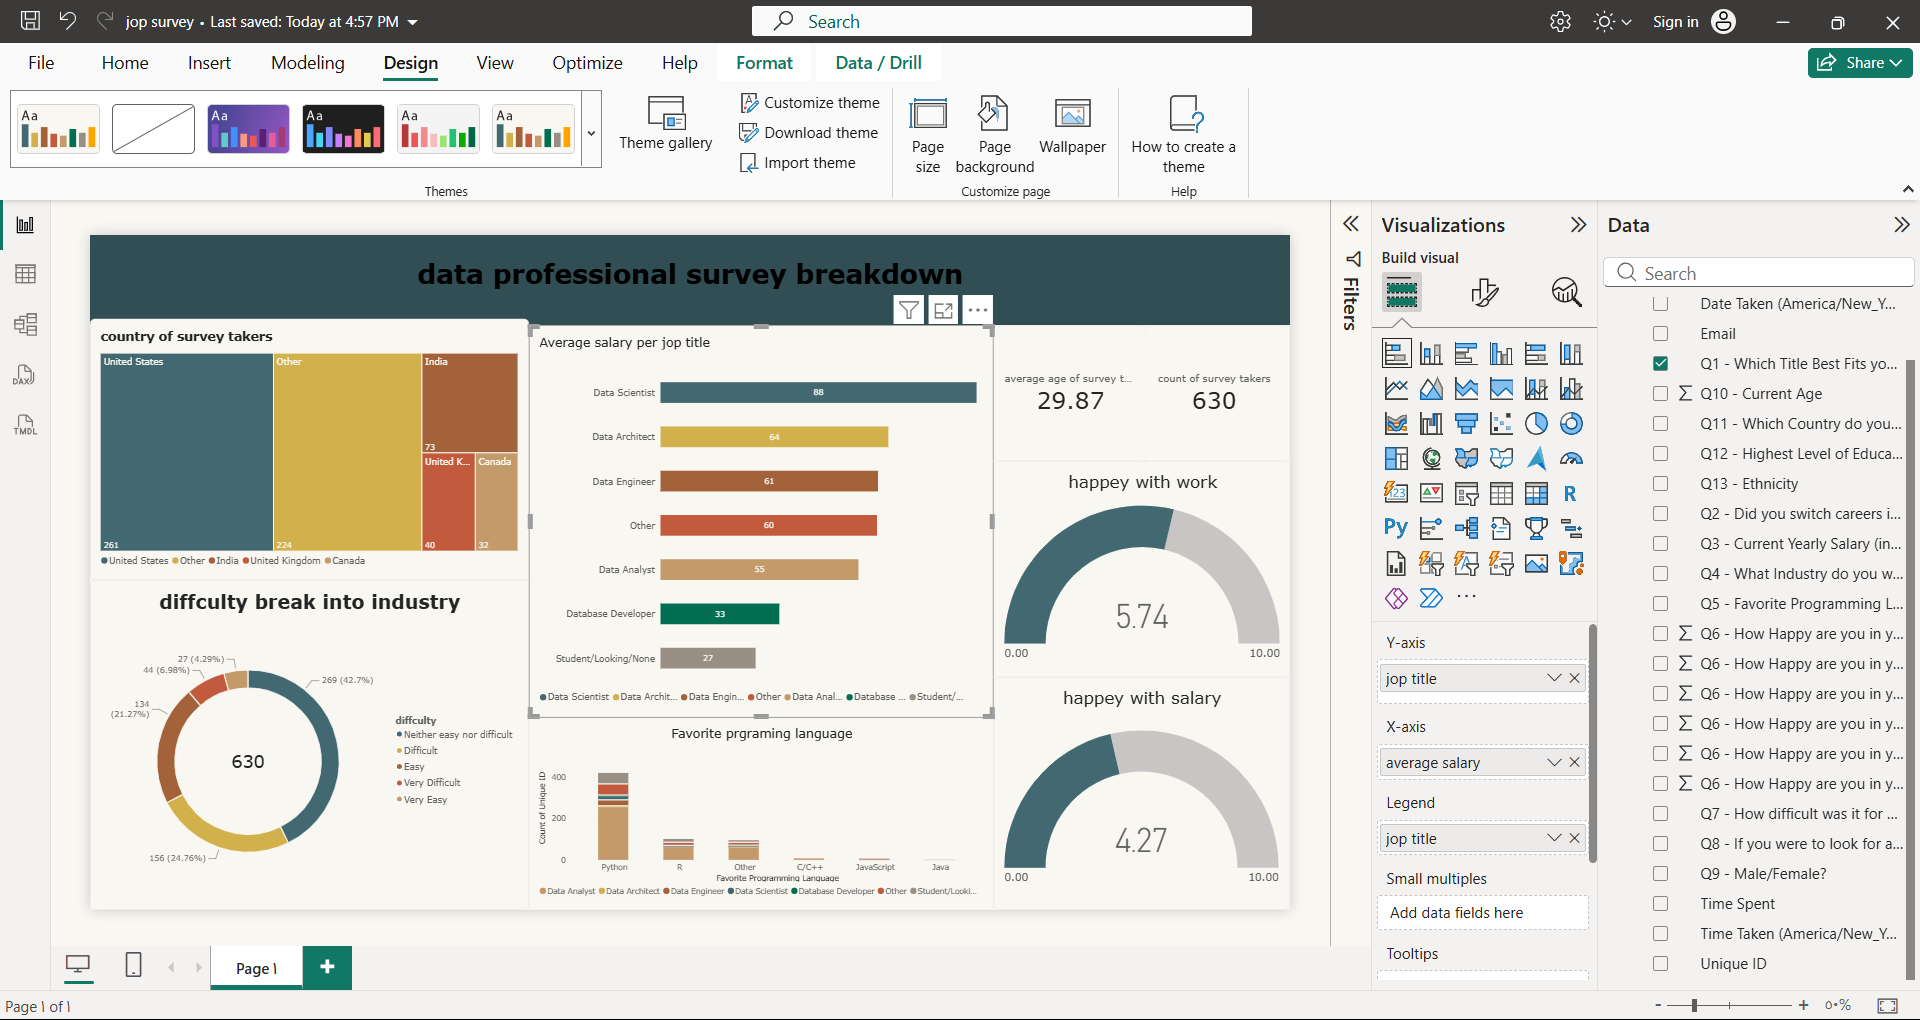

Layout of this report page (visuals, bound fields, positions):
{"tool":"powerbi","page":{"name":"Page ١","canvas":[1920,1080],"ordinal":0},"visuals":[{"type":"textbox","box":[0,0,1920.4,144.1],"z":0},{"type":"cardVisual","fields":{"Data":["Count(Data Professional Survey.Unique ID)"]},"box":[1676.3,144.5,244,217.8],"z":1000},{"type":"cardVisual","fields":{"Data":["Avg(Data Professional Survey.Q10 - Current Age)"]},"box":[1445.4,144.5,244,217.8],"z":1001},{"type":"barChart","title":"Average salary per jop title","fields":{"Category":["Data Professional Survey.Q1 - Which Title Best Fits your Current Role?.1"],"Series":["Data Professional Survey.Q1 - Which Title Best Fits your Current Role?.1"],"Y":["Avg(Data Professional Survey.average salary)"]},"box":[702.1,144.5,743.4,627],"z":1002},{"type":"columnChart","title":"Favorite prgraming language","fields":{"Category":["Data Professional Survey.Q5 - Favorite Programming Language.1"],"Series":["Data Professional Survey.Q1 - Which Title Best Fits your Current Role?.1"],"Y":["Count(Data Professional Survey.Unique ID)"]},"box":[702.1,769.7,744,310],"z":1003},{"type":"treemap","title":"country of survey takers","fields":{"Group":["Data Professional Survey.Q11 - Which Country do you live in?.1"],"Values":["CountNonNull(Data Professional Survey.Q11 - Which Country do you live in?.1)"]},"box":[0,133.3,702.1,418.6],"z":1004},{"type":"gauge","title":"happey with work","fields":{"MaxValue":["Max(Data Professional Survey.Q6 - How Happy are you in your Current Position with the following? (Work/Life Balance))"],"MinValue":["Min(Data Professional Survey.Q6 - How Happy are you in your Current Position with the following? (Work/Life Balance))"],"Y":["Avg(Data Professional Survey.Q6 - How Happy are you in your Current Position with the following? (Work/Life Bal"]},"box":[1445.4,362.3,474.9,345.4],"z":1005},{"type":"gauge","title":"happey with salary","fields":{"MaxValue":["Max(Data Professional Survey.Q6 - How Happy are you in your Current Position with the following? (Salary))"],"MinValue":["Min(Data Professional Survey.Q6 - How Happy are you in your Current Position with the following? (Salary))"],"Y":["Avg(Data Professional Survey.Q6 - How Happy are you in your Current Position with the following? (Salary))"]},"box":[1445.4,707.7,473.1,371.7],"z":1006},{"type":"donutChart","title":"diffculty break into industry","fields":{"Category":["Data Professional Survey.Q7 - How difficult was it for you to break into Data?"],"Y":["CountNonNull(Data Professional Survey.Q7 - How difficult was it for you to break into Data?)"]},"box":[0,551.9,702.1,527.5],"z":1007}]}

Visuals, with their boxes on the page's 1920x1080 design canvas (x1, y1, x2, y2). These are canvas units, not pixel positions in the 1920x1020 screenshot, which may show the page scaled, cropped or inside an application window:
textbox: Rect(0, 0, 1920, 144)
cardVisual - Count(Data Professional Survey.Unique ID): Rect(1676, 144, 1920, 362)
cardVisual - Avg(Data Professional Survey.Q10 - Current Age): Rect(1445, 144, 1689, 362)
"Average salary per jop title" barChart: Rect(702, 144, 1446, 772)
"Favorite prgraming language" columnChart: Rect(702, 770, 1446, 1080)
"country of survey takers" treemap: Rect(0, 133, 702, 552)
"happey with work" gauge: Rect(1445, 362, 1920, 708)
"happey with salary" gauge: Rect(1445, 708, 1918, 1079)
"diffculty break into industry" donutChart: Rect(0, 552, 702, 1079)
